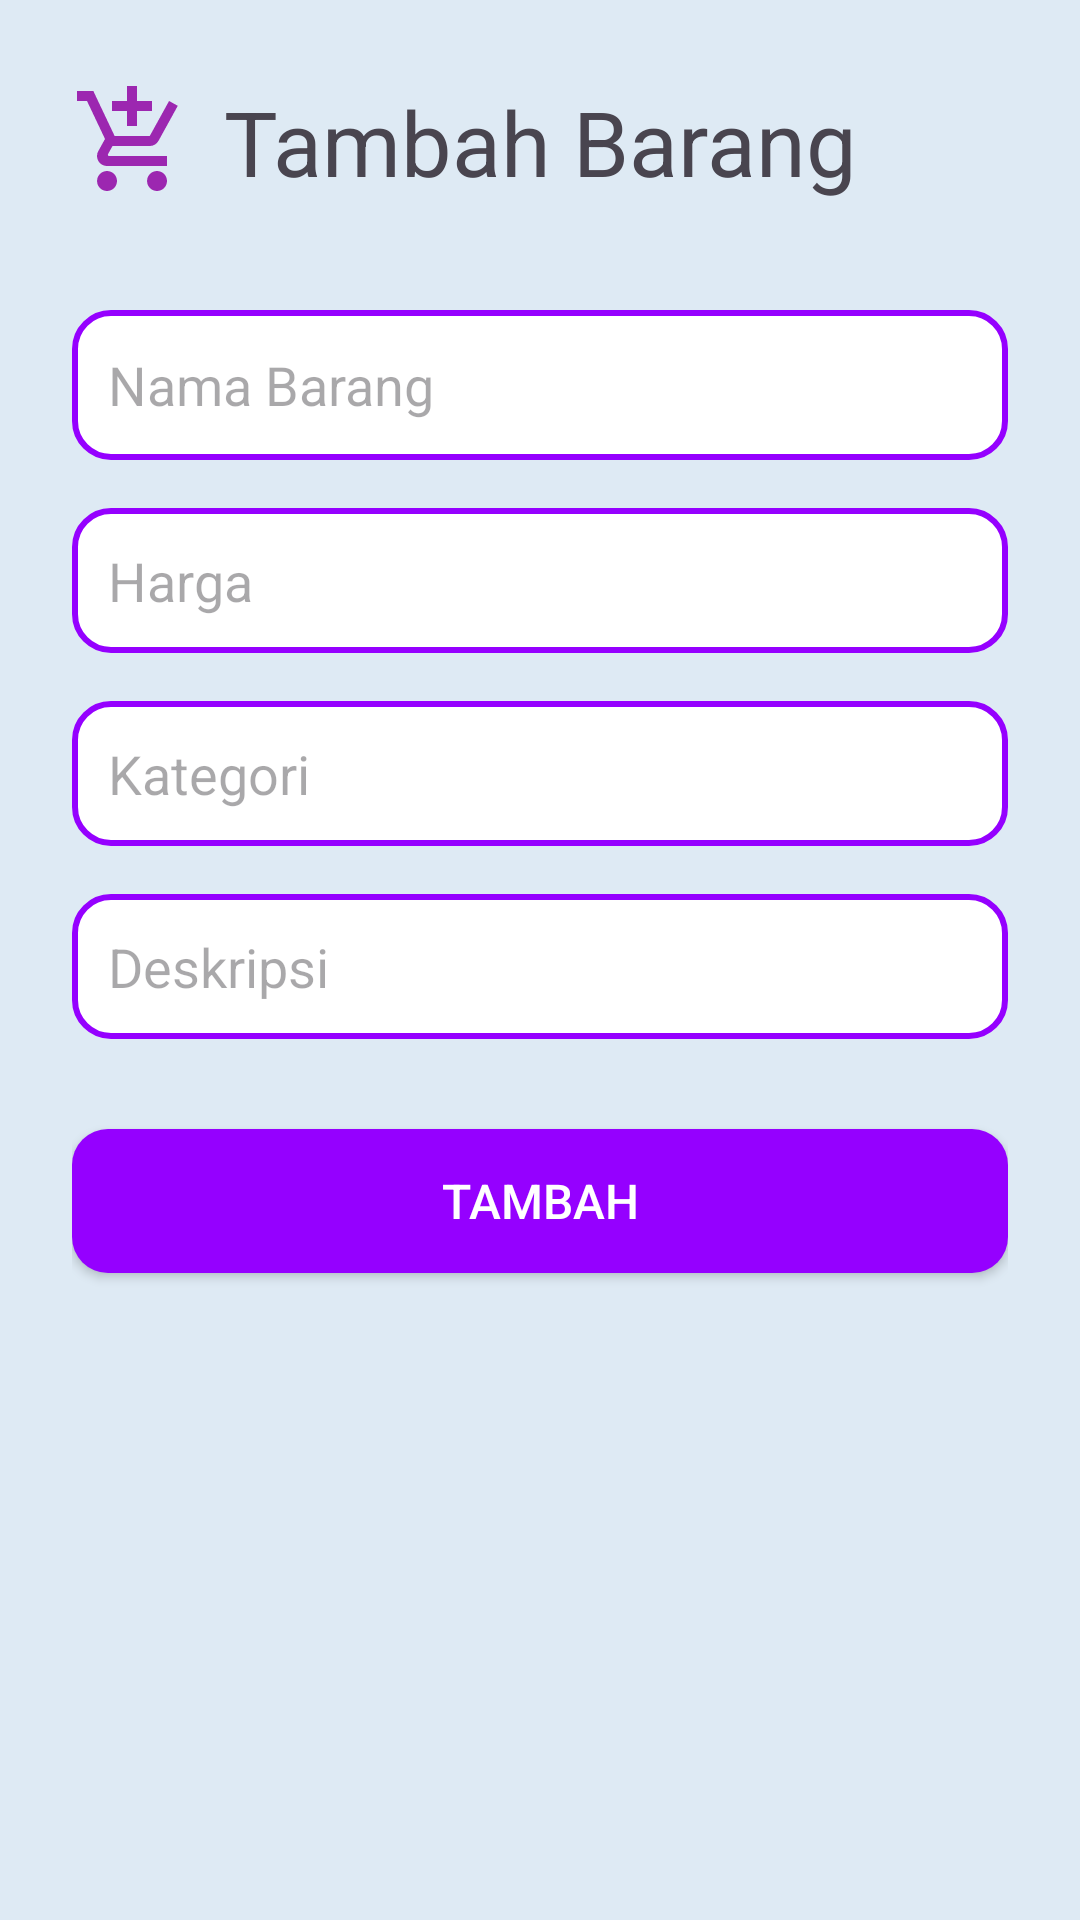

Where to tap for icons on this 1080×1920 app screen, as [x,y]:
add shopping cart: [127,138]
